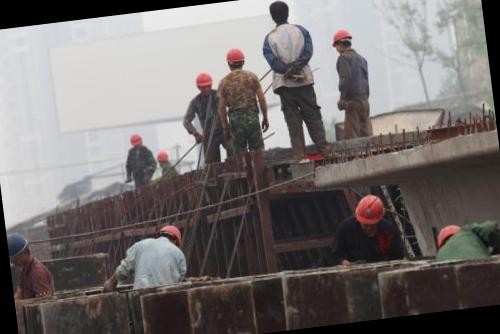no_helmet: (263, 0, 294, 29)
